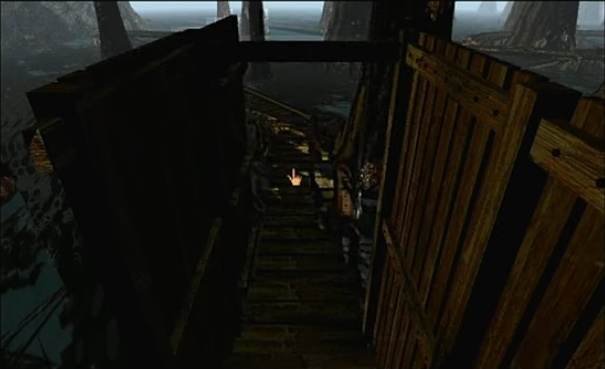Pointer: (284, 165, 307, 187)
